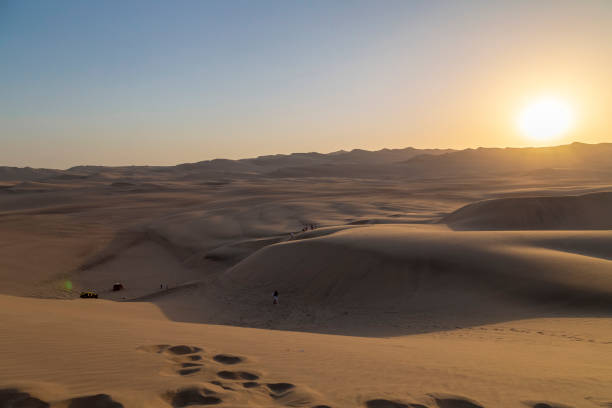human_foot_print: (139, 344, 329, 407)
